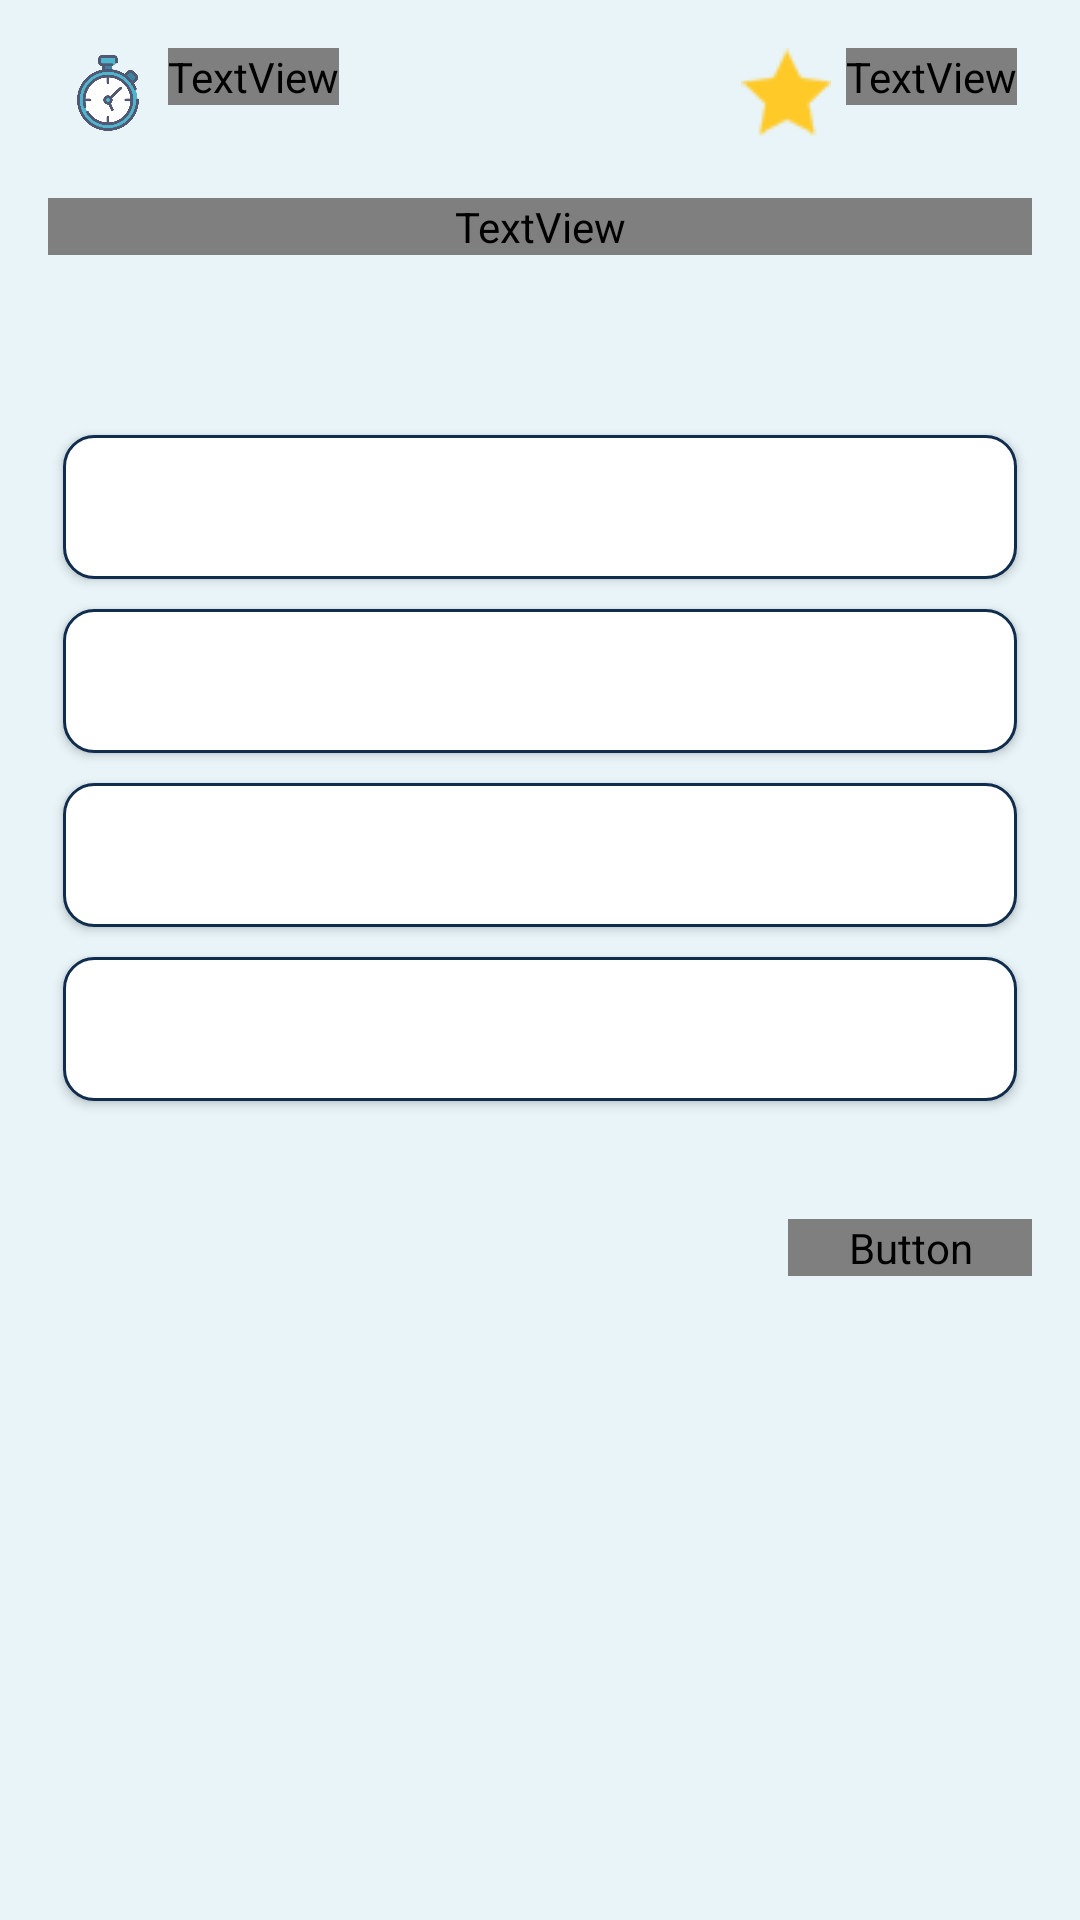

Icons on this 1080w x 1920h Android screen, each with the point to tap as (x=x, y=y):
star: (x=786, y=92)
stopwatch: (x=108, y=93)
